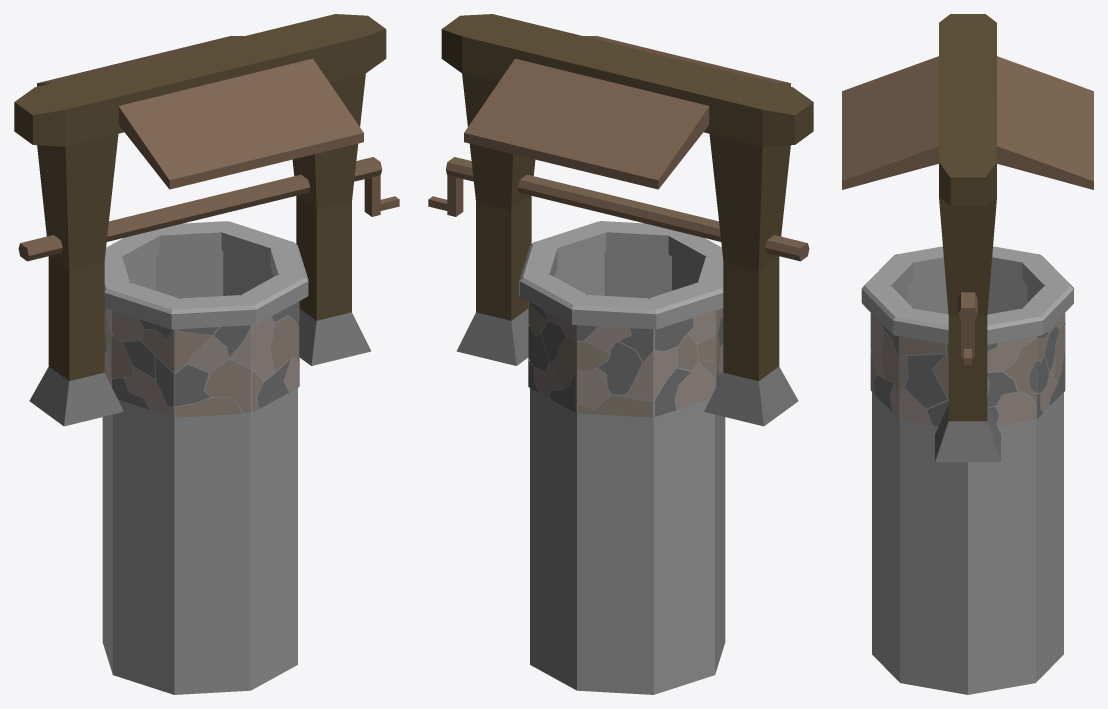
Rendered from enchantedforest_well.fbx.
3 renders of one model, left to right at view 1: azimuth 30°, elevation 25°; view 2: azimuth 150°, elevation 25°; view 3: azimuth 270°, elevation 25°, orthographic. The views are drawn at different scales.
Visible parts, largest first — view 1: Cylinder.028, Cube.020; view 2: Cylinder.028, Cube.020; view 3: Cylinder.028, Cube.020.
Part boxes in pixels (bbox=[...]): Cylinder.028: bbox=[102, 221, 308, 694]; Cube.020: bbox=[14, 14, 399, 426]; Cylinder.028: bbox=[519, 221, 725, 694]; Cube.020: bbox=[428, 14, 813, 426]; Cylinder.028: bbox=[861, 246, 1073, 694]; Cube.020: bbox=[842, 14, 1093, 462].
Size of the model in its own units: 4.23 by 6.4 by 2.6.
